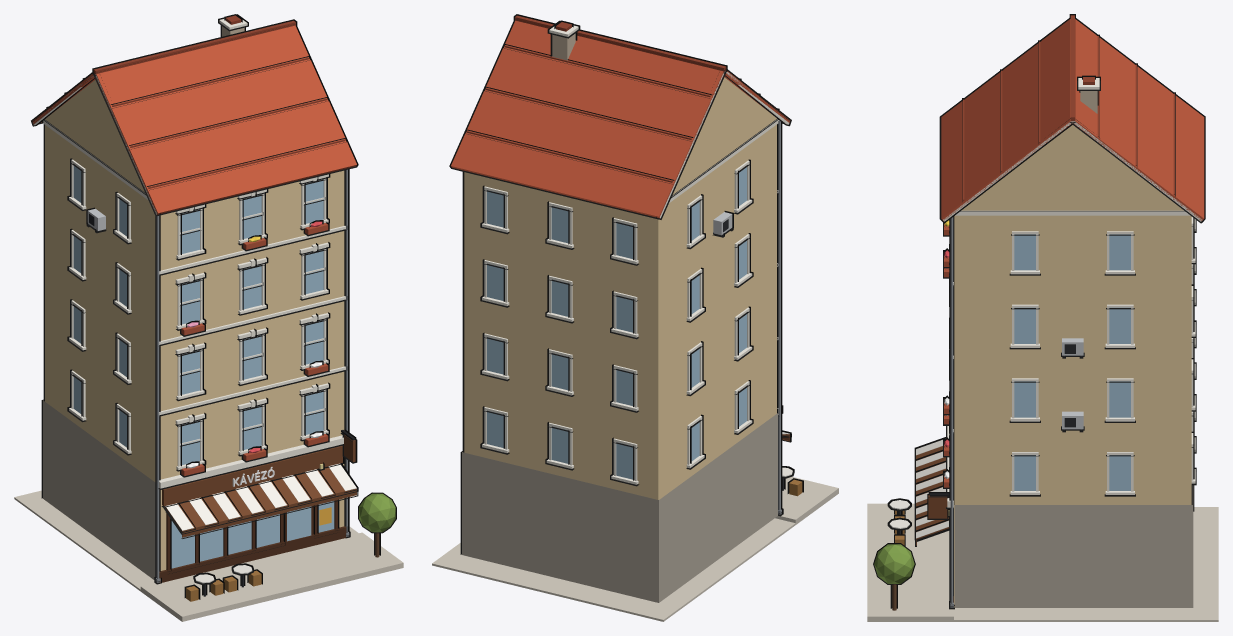
File: Dukkan_genel_kavezo.fbx
3 views of the same model, side by side, from view 1: azimuth 30°, elevation 25°; view 2: azimuth 150°, elevation 25°; view 3: azimuth 270°, elevation 25° (orthographic). The views are drawn at different scales.
Visible parts, largest first — view 1: Dukkan_genel_kavezo; view 2: Dukkan_genel_kavezo; view 3: Dukkan_genel_kavezo.
Boxes of the visible parts, bbox=[...] form: Dukkan_genel_kavezo: bbox=[14, 14, 403, 621]; Dukkan_genel_kavezo: bbox=[432, 14, 838, 621]; Dukkan_genel_kavezo: bbox=[867, 14, 1218, 621].
Bounding box in the file's own units: 10.08 × 20.82 × 12.98.
